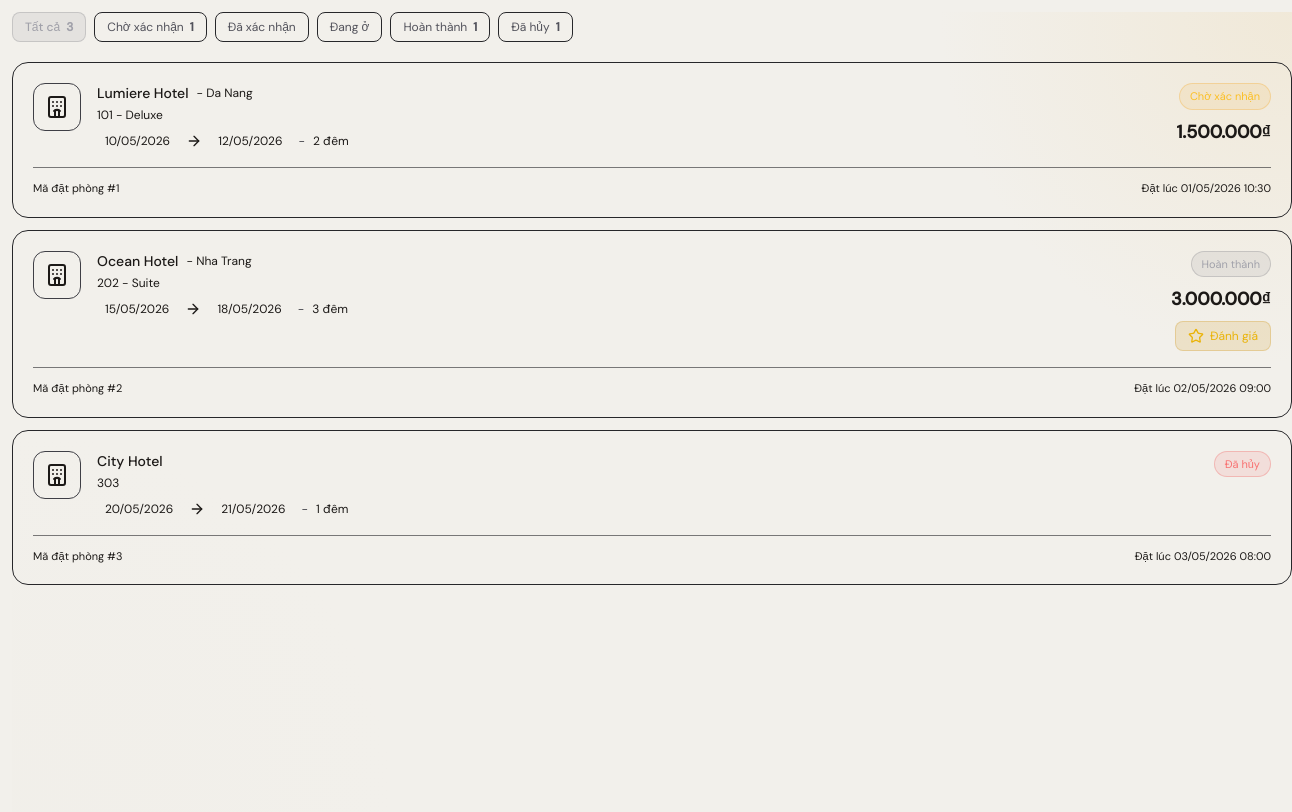
Test: BookingHistory › should render status labels and formatted prices
Click the button "Chờ xác nhận 1". click: (150, 27)
box: [94, 12, 207, 42]
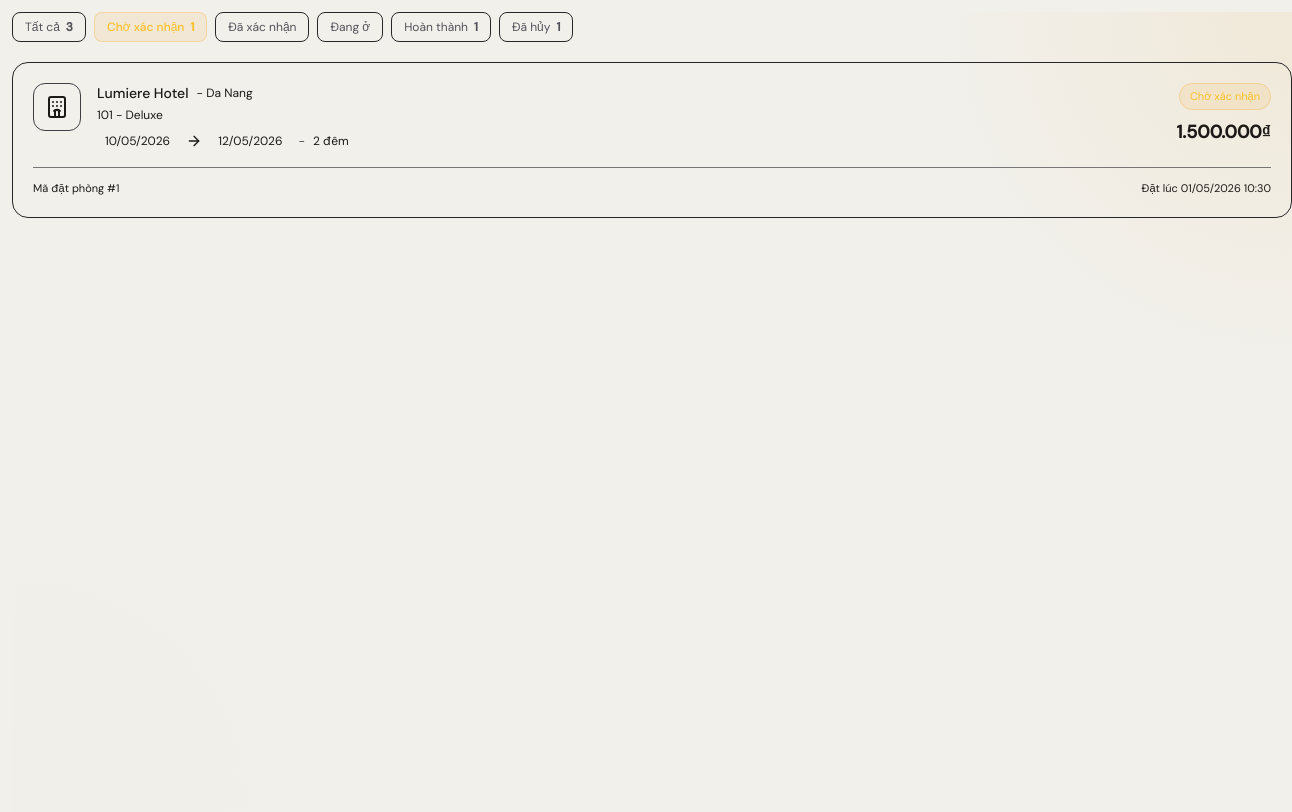
Expected: the text "1.500.000₫" is shown, [1176, 118, 1271, 146]
Expected: the number of buttons "Chờ xác nhận 1" is 2, [94, 12, 207, 42]; [1179, 83, 1271, 110]
Click the button "Hoàn thành 1". click: (441, 27)
box: [391, 12, 491, 42]
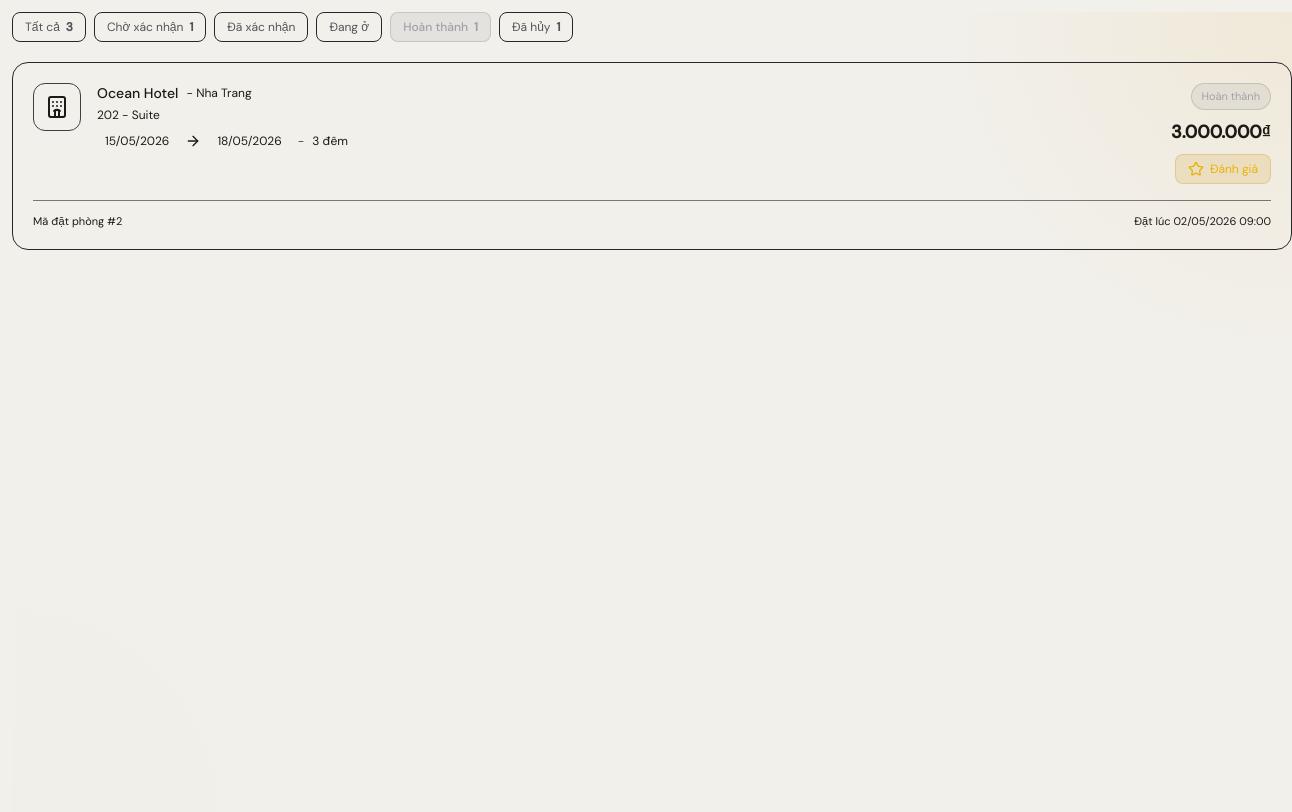
Expected: the number of buttons "Hoàn thành 1" is 2, [390, 12, 491, 42]; [1190, 83, 1271, 110]
Expected: the text "3.000.000₫" is shown, [1171, 118, 1271, 146]
Click the button "Đã hủy 1". click: (536, 27)
box: [499, 12, 573, 42]
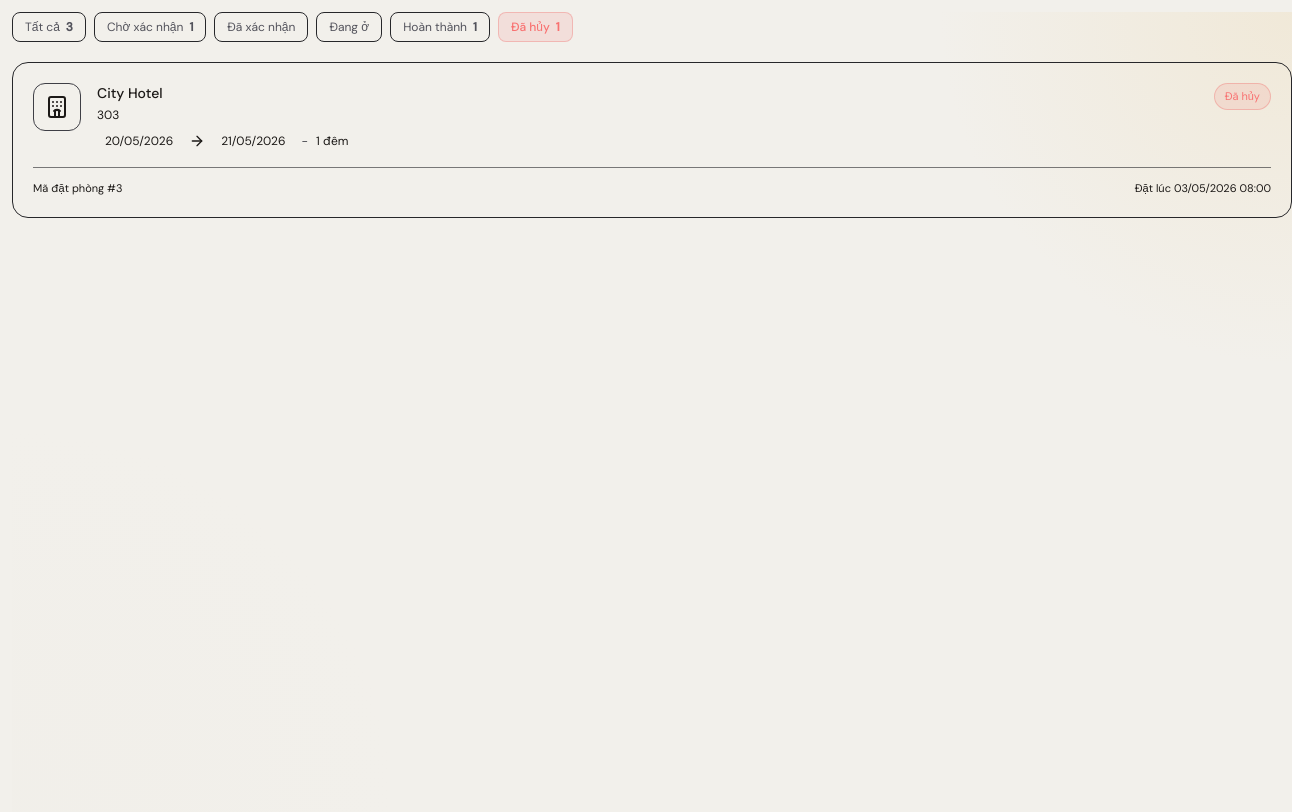
Expected: the number of buttons "Đã hủy 1" is 2, [498, 12, 573, 42]; [1214, 83, 1271, 110]
